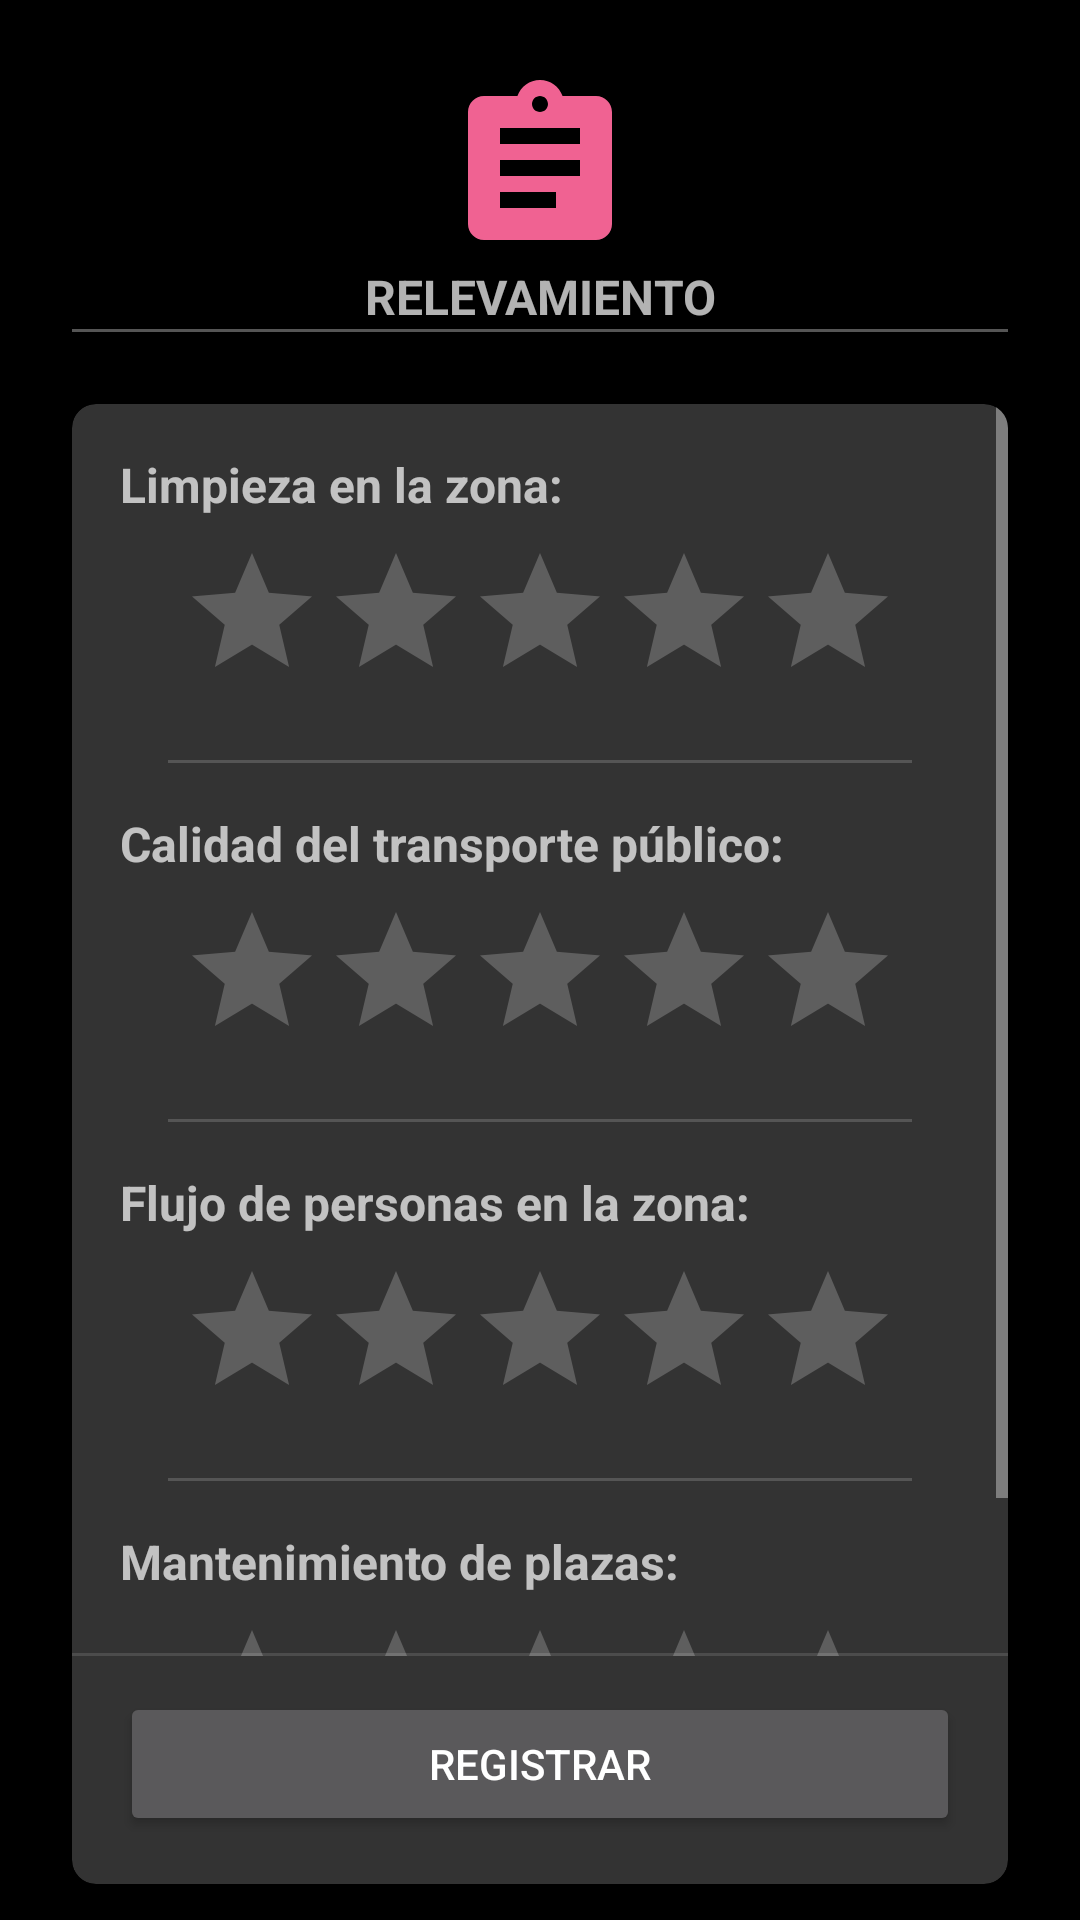

Icon bounding boxes for this 1080x1920 phone screenshot, format box(x1, y1, x2, y2):
assignment: box(468, 80, 612, 240)
